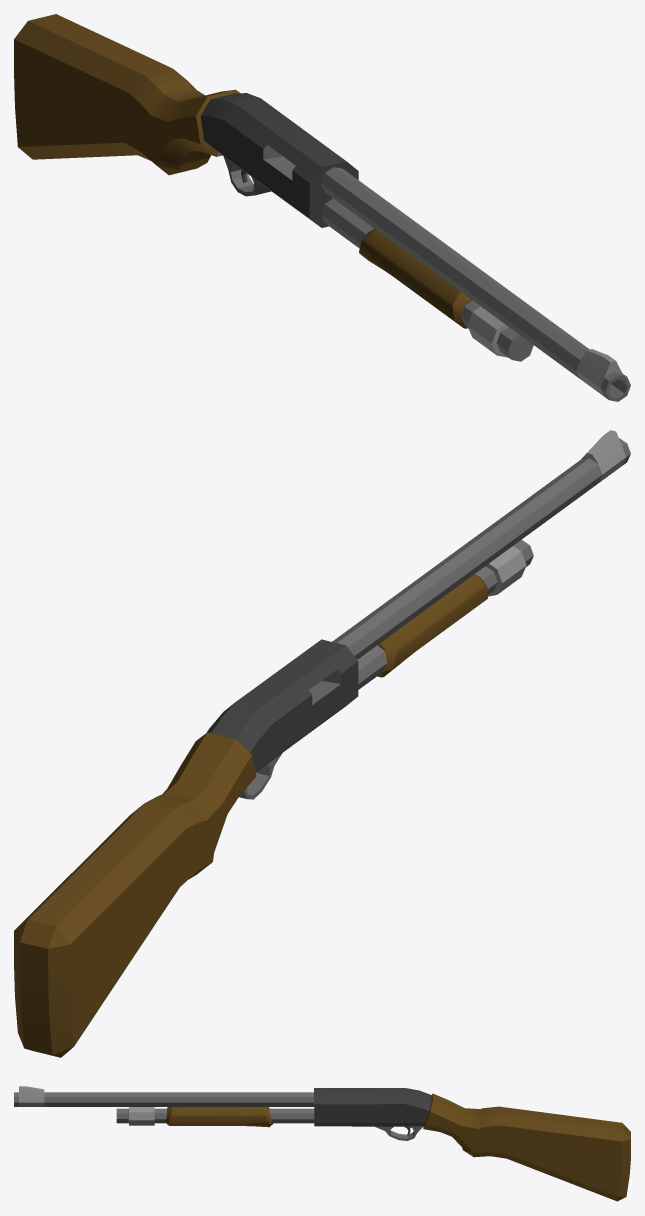
Rendered from Remington.fbx.
3 views of the same model, one above another, from view 1: azimuth 30°, elevation 25°; view 2: azimuth 150°, elevation 25°; view 3: azimuth 270°, elevation 25° (orthographic). The views are drawn at different scales.
Visible parts, largest first — view 1: shotgun_1; view 2: shotgun_1; view 3: shotgun_1.
Part boxes in pixels (left/top/right/bottom): shotgun_1: left=14, top=14, right=630, bottom=401; shotgun_1: left=14, top=430, right=630, bottom=1057; shotgun_1: left=14, top=1086, right=630, bottom=1201.
Size of the model in its own units: 19.02 by 67.58 by 341.
1 material, 1 textured.
